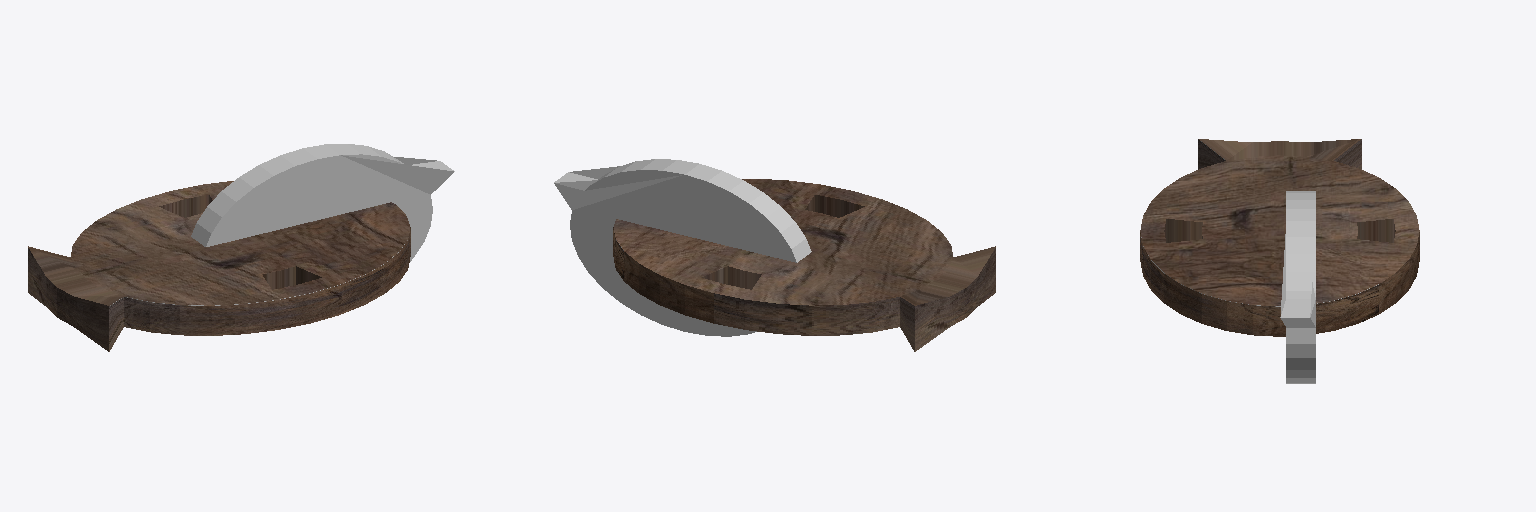
3 views of the same model, side by side, from view 1: azimuth 30°, elevation 25°; view 2: azimuth 150°, elevation 25°; view 3: azimuth 270°, elevation 25° (orthographic).
Parts seen in each view (by area): view 1: Cylinder.002; view 2: Cylinder.002; view 3: Cylinder.002.
Part boxes in pixels (bbox=[...]): Cylinder.002: bbox=[28, 144, 454, 351]; Cylinder.002: bbox=[554, 159, 995, 351]; Cylinder.002: bbox=[1140, 139, 1419, 383].
Size of the model in its own units: 1.34 by 0.5063 by 0.8144.
Materials: 2 (1 with a texture image).